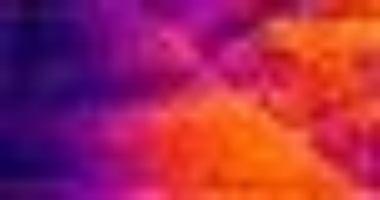Shadow: (1, 1, 147, 200)
